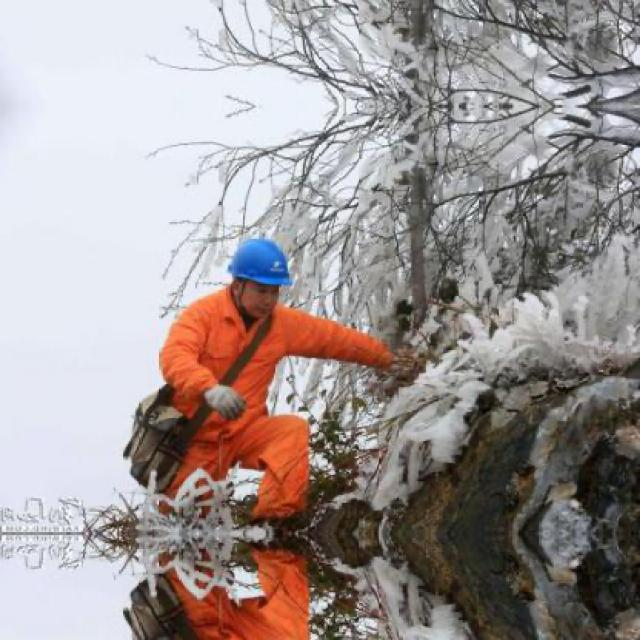helmet: (221, 230, 297, 324)
